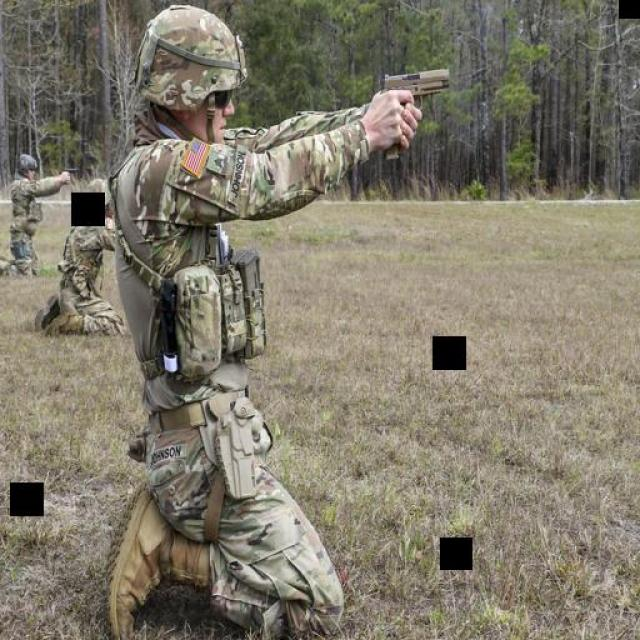gun: (375, 59, 451, 156)
